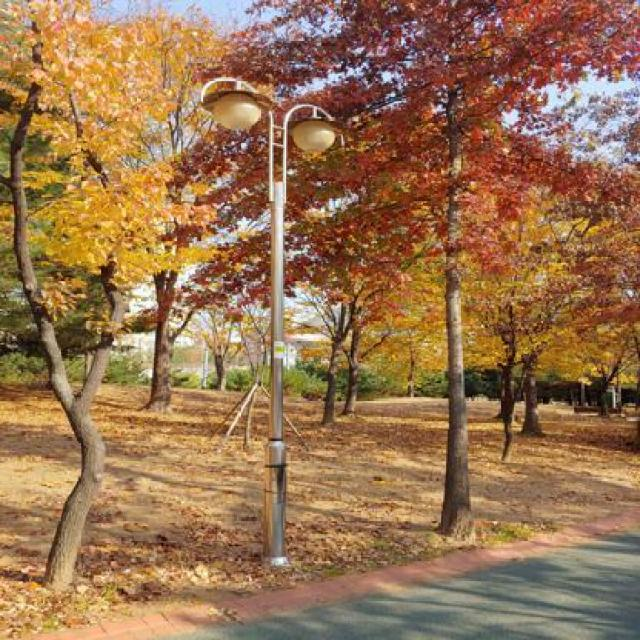pole: (253, 170, 301, 573)
